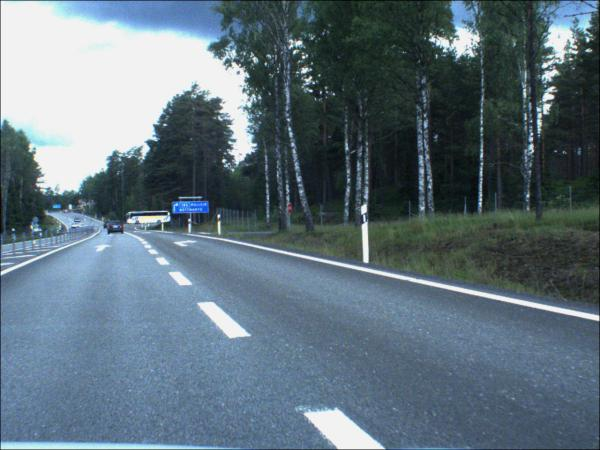STOP: (289, 205, 294, 216)
